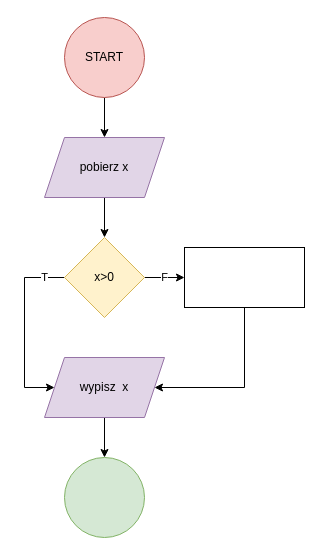
Image size: 322x555. Some labels were removed from this diagram. Here are the shapes that lost their labels. From the top down, the centre of each, then its label:
At point 244,277: "x = x*(-1)".
At point 104,497: "KONIEC".
